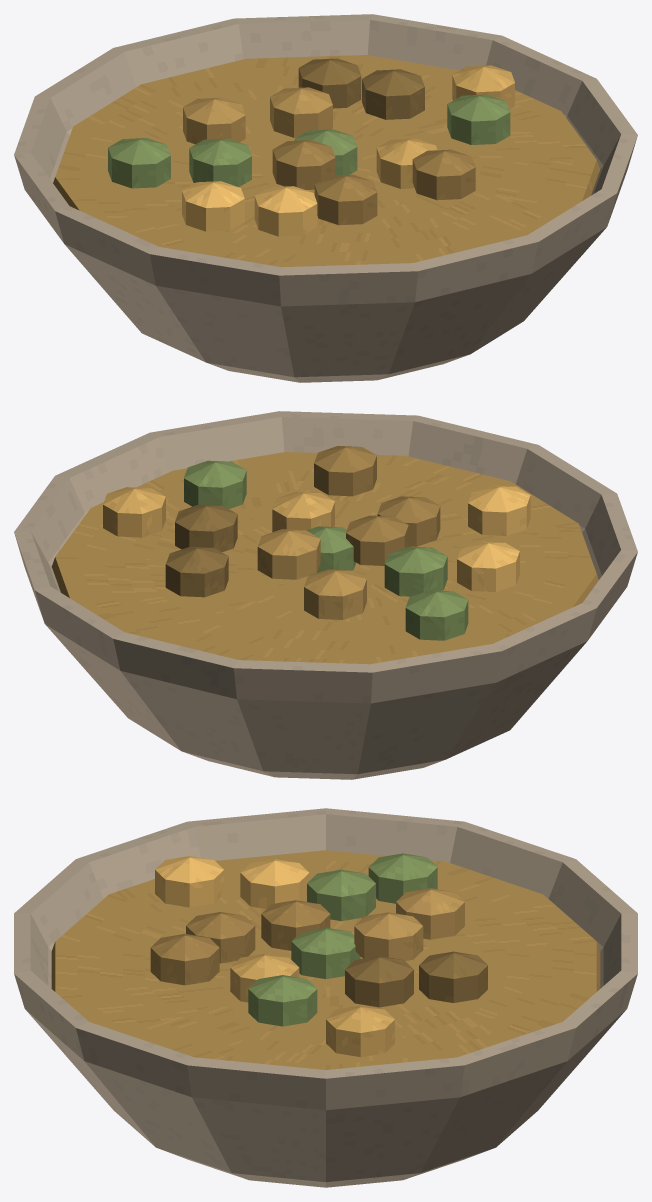
File: curry_veggy.glb
3 renders of one model, top to bottom at view 1: azimuth 30°, elevation 25°; view 2: azimuth 150°, elevation 25°; view 3: azimuth 270°, elevation 25°, orthographic. The views are drawn at different scales.
Visible parts, largest first — view 1: block_earthenware bowl, block_meal in bowl, block_pieces in cooked dish (×15); view 2: block_earthenware bowl, block_meal in bowl, block_pieces in cooked dish (×15); view 3: block_earthenware bowl, block_meal in bowl, block_pieces in cooked dish (×15).
Part boxes in pixels (x1=…): block_earthenware bowl: x1=14, y1=14, x2=637, y2=382; block_meal in bowl: x1=53, y1=55, x2=600, y2=267; block_pieces in cooked dish (×15): x1=108, y1=58, x2=514, y2=236; block_earthenware bowl: x1=14, y1=411, x2=637, y2=779; block_meal in bowl: x1=51, y1=452, x2=598, y2=664; block_pieces in cooked dish (×15): x1=103, y1=446, x2=530, y2=640; block_earthenware bowl: x1=14, y1=808, x2=637, y2=1187; block_meal in bowl: x1=51, y1=850, x2=600, y2=1069; block_pieces in cooked dish (×15): x1=150, y1=853, x2=487, y2=1056.
Size of the model in its own units: 0.1516 by 0.0528 by 0.1478.
Materials: 1 (1 with a texture image).
